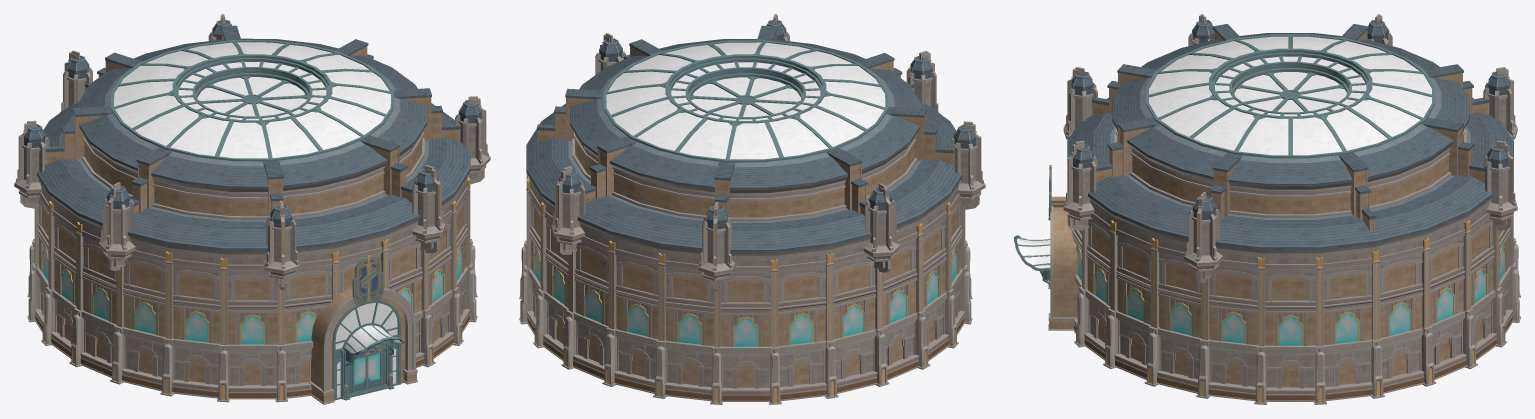
The model's file is Homeworld_Exterior_Fd_Build_Juedou_01_Lod0.fbx.
3 views of the same model, side by side, from view 1: azimuth 30°, elevation 25°; view 2: azimuth 150°, elevation 25°; view 3: azimuth 270°, elevation 25° (orthographic). The views are drawn at different scales.
Visible parts, largest first — view 1: Homeworld_Exterior_Fd_Build_Juedou_01A_Lod0; view 2: Homeworld_Exterior_Fd_Build_Juedou_01A_Lod0; view 3: Homeworld_Exterior_Fd_Build_Juedou_01A_Lod0.
Boxes of the visible parts, left/top/right/bottom form: Homeworld_Exterior_Fd_Build_Juedou_01A_Lod0: left=14, top=14, right=490, bottom=404; Homeworld_Exterior_Fd_Build_Juedou_01A_Lod0: left=519, top=14, right=985, bottom=404; Homeworld_Exterior_Fd_Build_Juedou_01A_Lod0: left=1014, top=14, right=1520, bottom=404.
Size of what is drawn, in the model's own units: 29.79 by 16.13 by 32.78.
